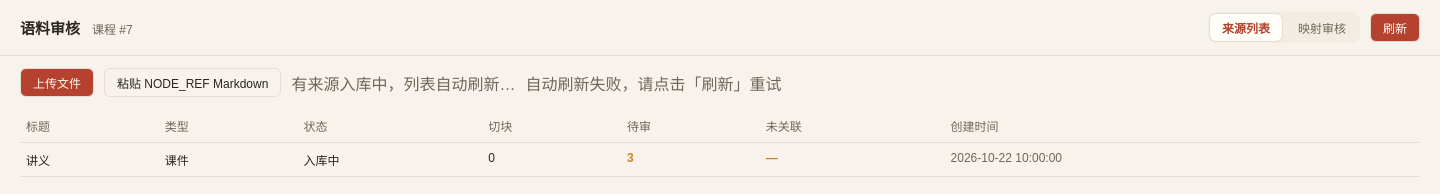
it: TeacherRag 轮询健壮性（复核 M10） › 轮询出错：显示非阻塞提示并停止自动轮询，保留列表；点「刷新」恢复
The width and height of the screenshot is (1440, 194).
Expected: the message with test id "poll-error" shows "自动刷新失败", [525,76,781,92]
What coordinates should you click on to do the following:
click the button "刷新"
I would click on:
 (1395, 28)
Its box is [1370,13,1420,42].
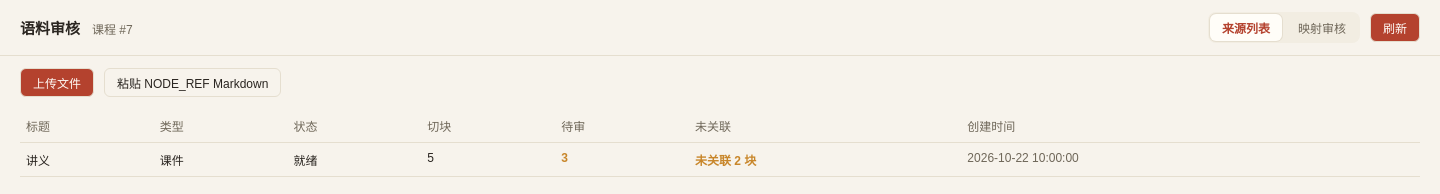
Now the text "就绪" is shown, box [288,142,421,176]
